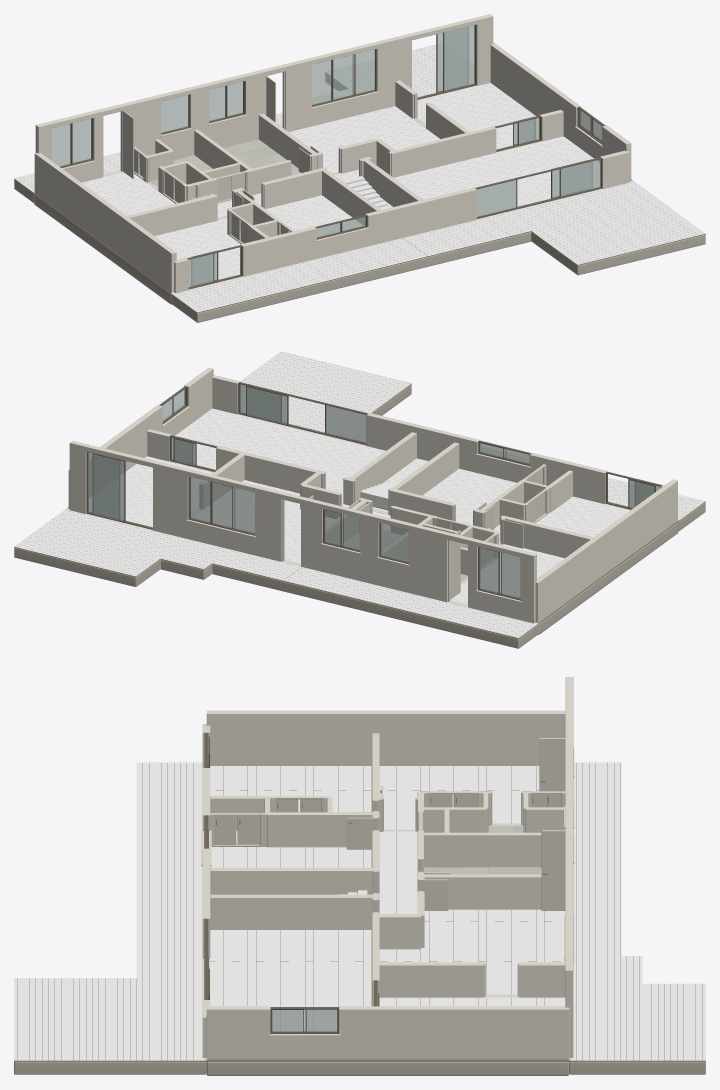
The model's file is upper.glb.
3 renders of one model, top to bottom at view 1: azimuth 30°, elevation 25°; view 2: azimuth 150°, elevation 25°; view 3: azimuth 270°, elevation 25°, orthographic. The views are drawn at different scales.
Parts seen in each view (by area): view 1: Continuous cutaway walls, deck, living_room, Front deck slab, kitchen, dining, Balcony boards, dexters_bedroom, master_bedroom, lokis_bedroom, Deck joints, dining_balcony_slider glass.001 (+17 smaller); view 2: Continuous cutaway walls, Balcony boards, deck, living_room, Balcony slab, kitchen, lokis_bedroom, dining, dexters_bedroom, master_bedroom, dining_balcony_slider glass, Balcony joints (+20 smaller); view 3: Continuous cutaway walls, deck, Balcony boards, living_room, kitchen, master_bedroom, dexters_bedroom, Upper floor slab, Deck joints, Continuous subfloor, lokis_bedroom, Balcony joints (+13 smaller).
Boxes of the visible parts, x1,y1,x2,y2 form: Continuous cutaway walls: (34,14,631,293); deck: (171,180,705,312); living_room: (393,136,599,216); Front deck slab: (171,232,705,322); kitchen: (289,106,439,173); dining: (417,83,538,149); Balcony boards: (14,43,473,192); dexters_bedroom: (154,218,240,286); master_bedroom: (82,172,174,215); lokis_bedroom: (265,195,362,236); Deck joints: (171,184,705,313); dining_balcony_slider glass.001: (444,25,474,90); Continuous cutaway walls: (68,367,677,623); Balcony boards: (14,508,538,637); deck: (240,351,705,520); living_room: (172,408,385,500); Balcony slab: (14,547,538,648); kitchen: (193,480,334,563); lokis_bedroom: (423,468,516,524); dining: (89,456,213,527); dexters_bedroom: (494,496,629,539); master_bedroom: (450,544,564,604); dining_balcony_slider glass: (93,454,124,521); Balcony joints: (14,510,538,638); Continuous cutaway walls: (202,677,573,1059); deck: (14,762,206,1060); Balcony boards: (569,762,705,1060); living_room: (210,930,371,1030); kitchen: (379,909,565,994); master_bedroom: (379,766,539,829); dexters_bedroom: (210,766,371,812); Upper floor slab: (206,1061,569,1075); Deck joints: (14,763,206,1061); Continuous subfloor: (206,766,569,1061); lokis_bedroom: (210,830,371,867); Balcony joints: (569,763,705,1061).
Bounding box in the file's own units: 16.29 × 2.63 × 15.96.
